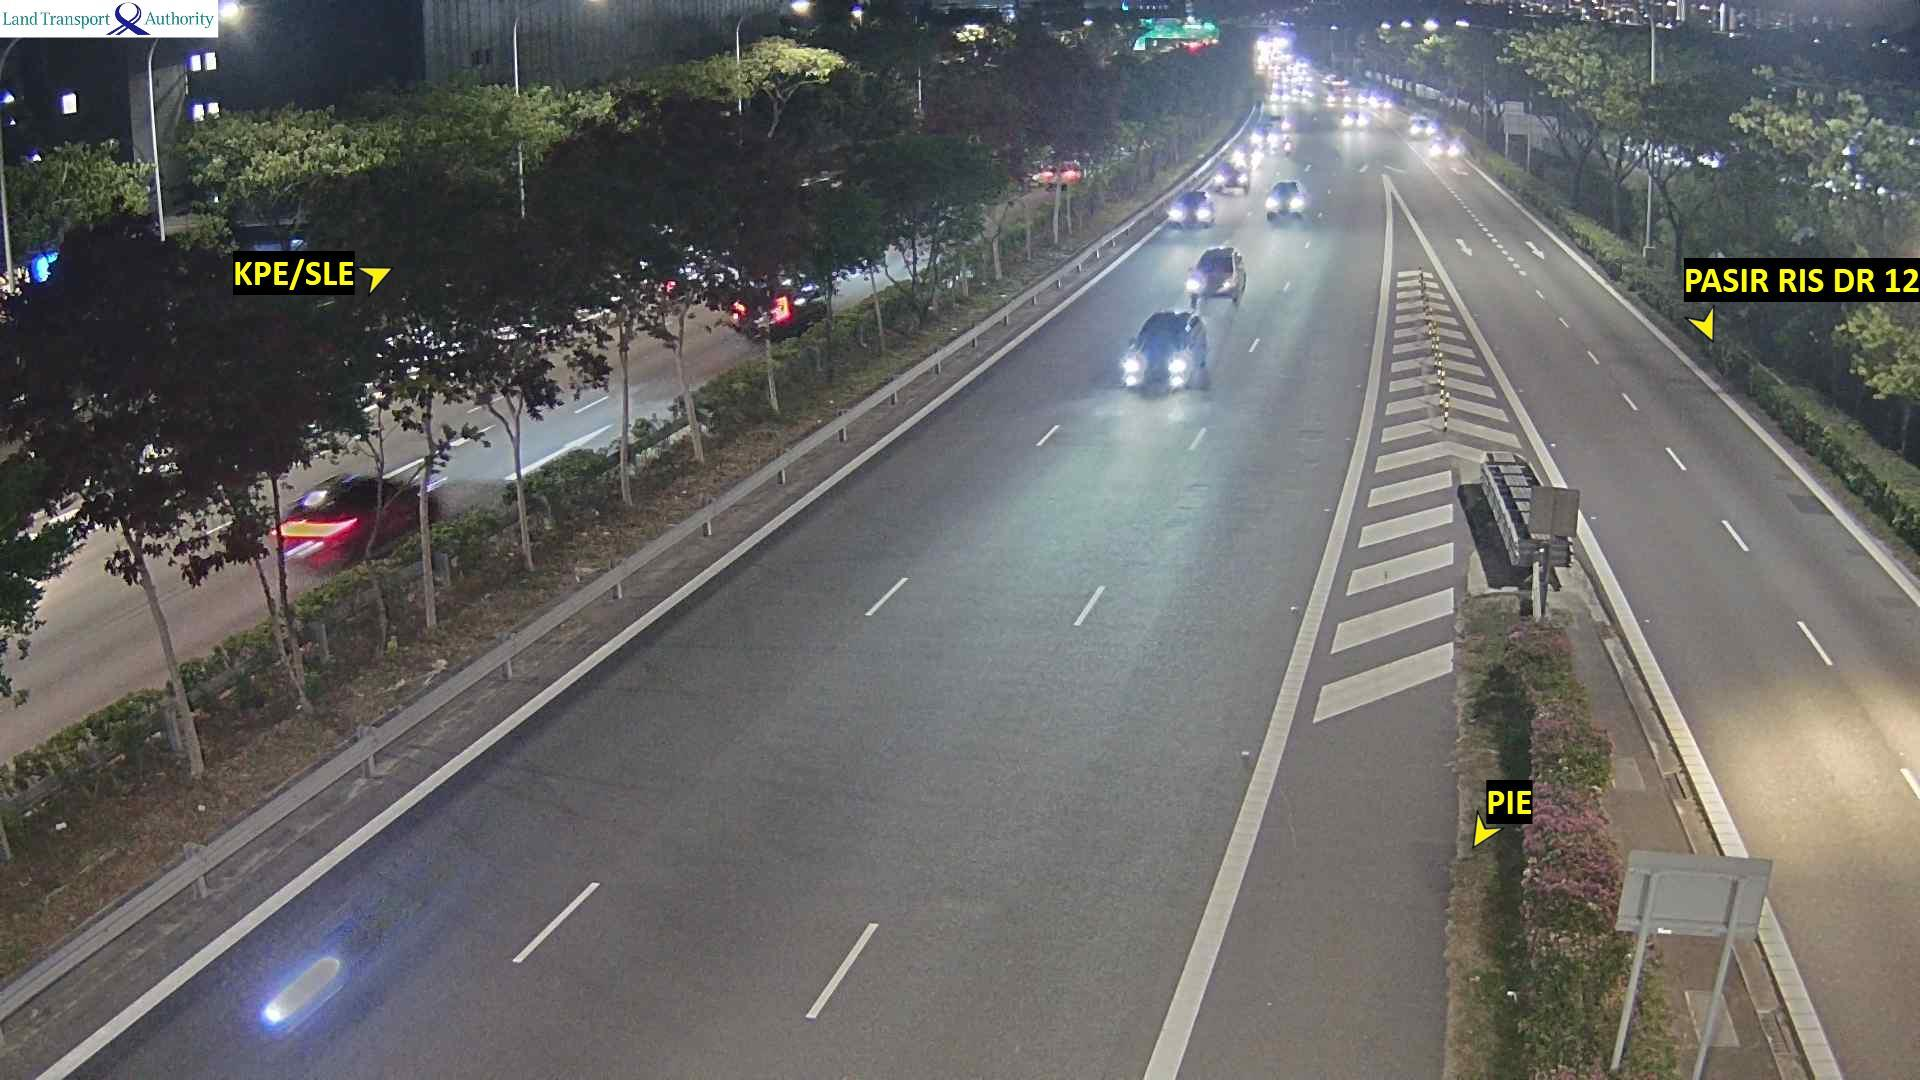cars: (267, 456, 446, 568), (1118, 306, 1209, 393), (727, 275, 826, 342), (1184, 244, 1246, 305), (1165, 188, 1215, 229), (1263, 178, 1309, 220), (1029, 159, 1082, 188), (1210, 159, 1249, 195), (1428, 132, 1462, 158), (1407, 111, 1437, 139), (1248, 125, 1280, 150), (1339, 107, 1370, 129)
motorcycle: (1281, 133, 1294, 159)
